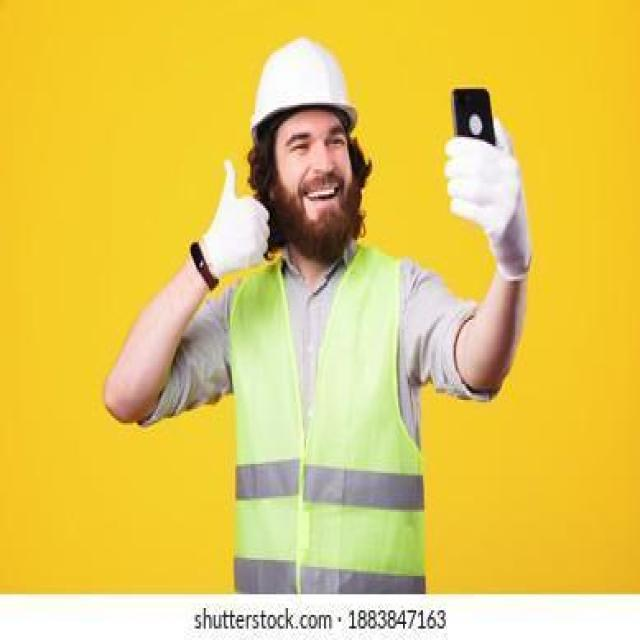helmet: (250, 37, 360, 137)
